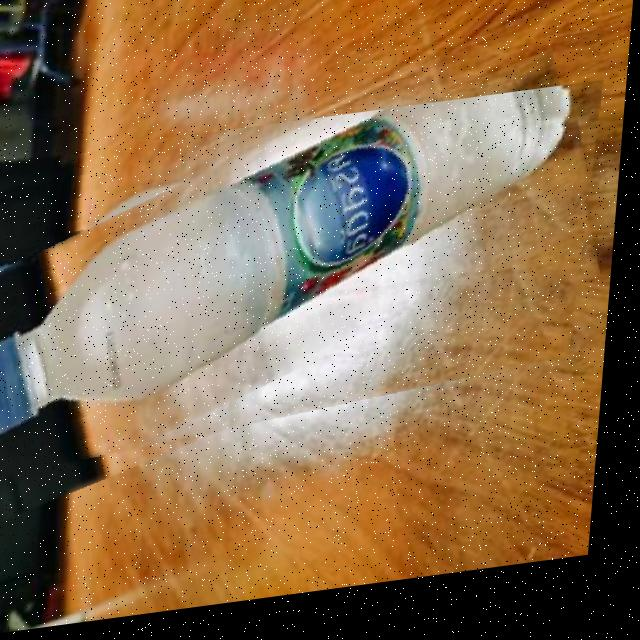plasticbottle: (0, 96, 609, 486)
plasticbottlecap: (0, 233, 118, 411)
